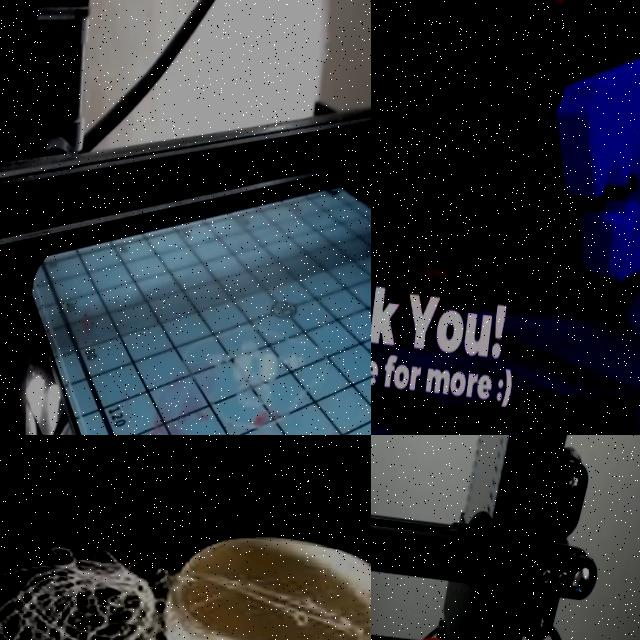spaghetti: (0, 523, 173, 640)
